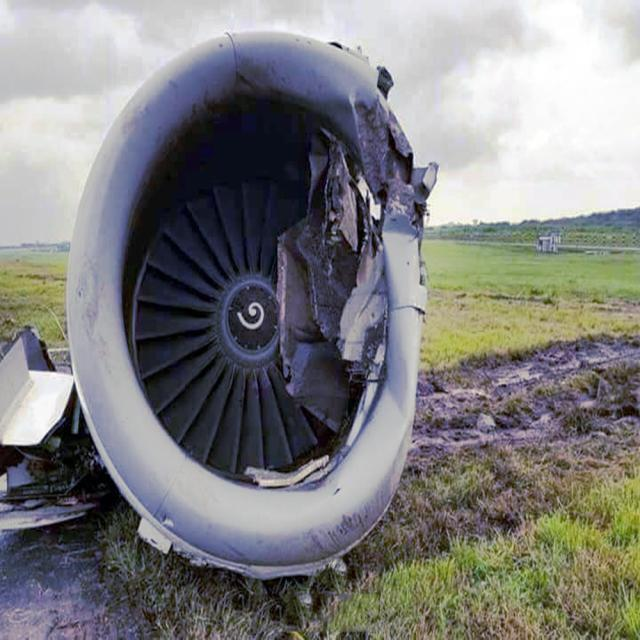dent: (366, 323, 422, 506), (382, 213, 415, 262)
